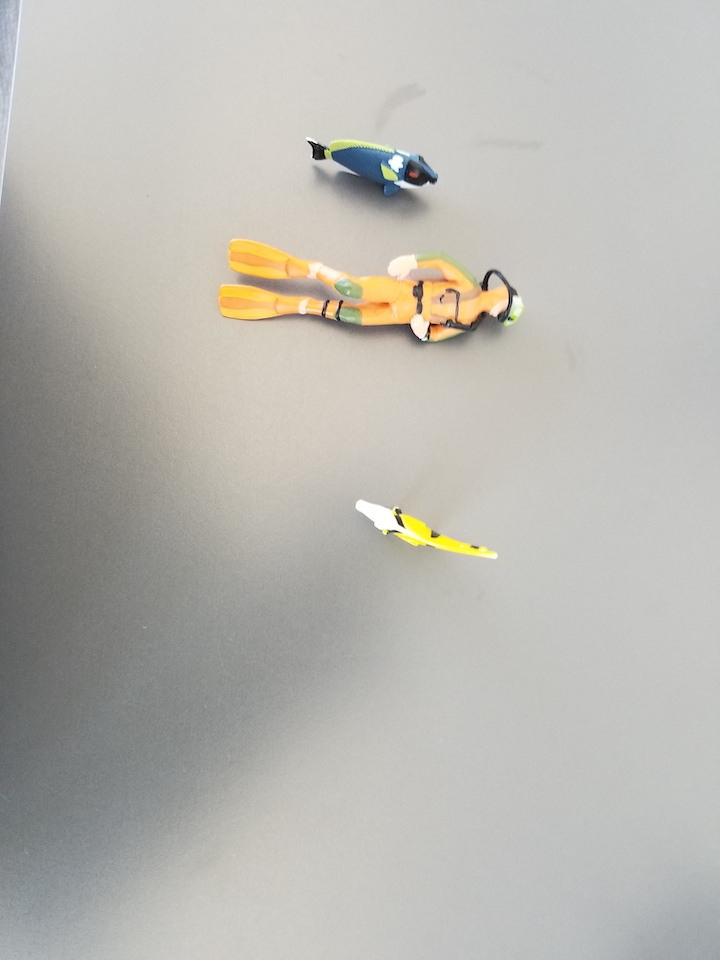danger: (352, 497, 503, 563)
diver: (219, 235, 528, 344)
fish: (303, 135, 442, 196)
